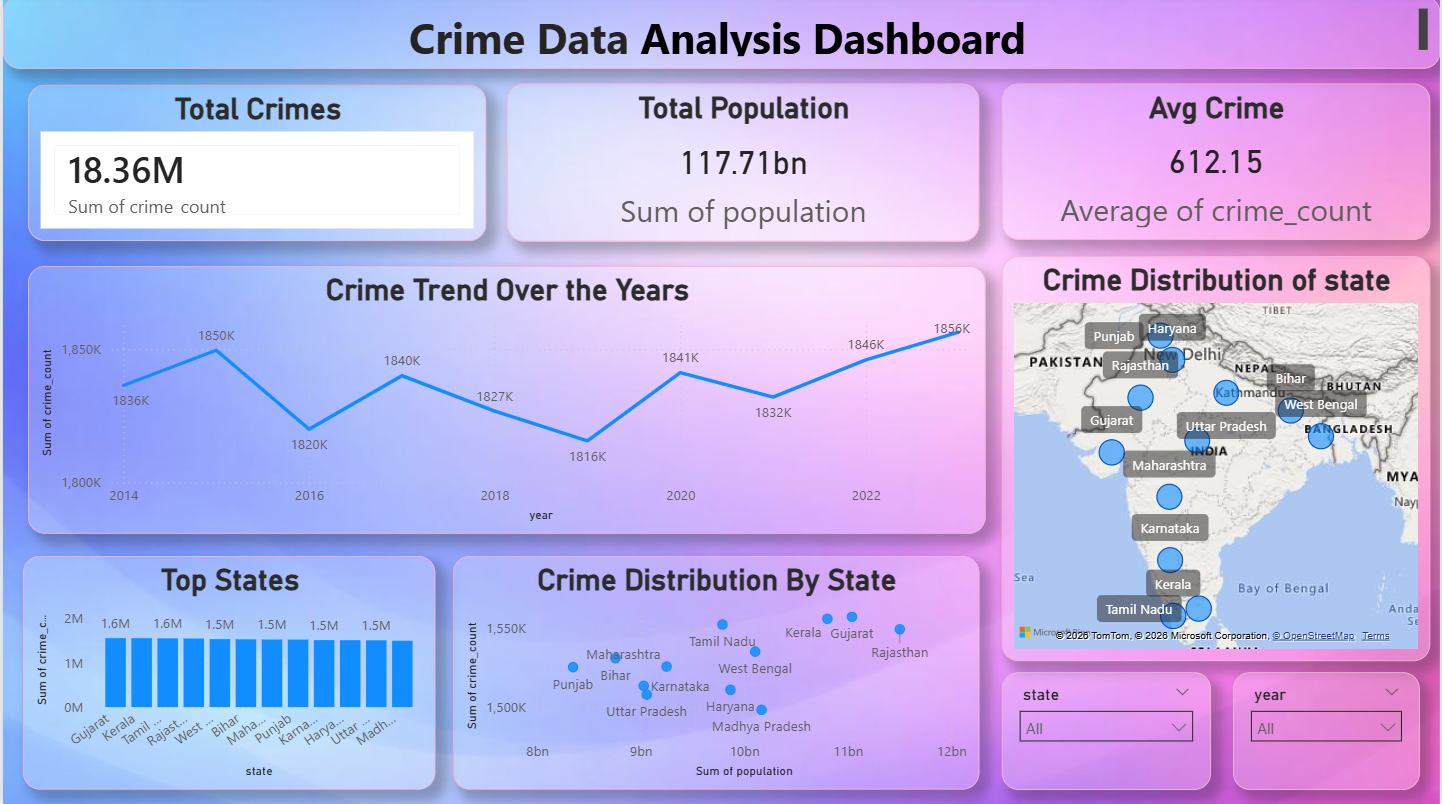

The page's visual inventory and layout, read from the dashboard file:
{"tool":"powerbi","page":{"name":"Page 1","canvas":[1280,720],"ordinal":0},"visuals":[{"type":"cardVisual","title":"Total Crimes","fields":{"Data":["Sum(public crime_data.crime_count)"]},"box":[22.1,79.1,408.1,139.5],"z":0},{"type":"textbox","box":[0,0,1280.2,65.1],"z":1000},{"type":"card","title":"Total Population","fields":{"Values":["Sum(public crime_data.population)"]},"box":[448.8,77.9,420.9,140.7],"z":2000},{"type":"card","title":"Avg Crime","fields":{"Values":["Avg(public crime_data.crime_count)"]},"box":[889.5,77.9,381.4,139.5],"z":3000},{"type":"lineChart","title":"Crime Trend Over the Years","fields":{"Category":["public crime_data.year"],"Y":["Sum(public crime_data.crime_count)"]},"box":[22.3,240.4,852.7,238.2],"z":4000},{"type":"map","title":"Crime Distribution of state","fields":{"Category":["public crime_data.state"],"Size":["Sum(public crime_data.crime_count)"]},"box":[889.4,231.5,381.8,360.7],"z":5000},{"type":"scatterChart","title":"Crime Distribution By State","fields":{"X":["Sum(public crime_data.population)"],"Y":["Sum(public crime_data.crime_count)"],"Category":["public crime_data.state"]},"box":[400.7,498.7,468.6,208.2],"z":6000},{"type":"slicer","fields":{"Values":["public crime_data.year"]},"box":[1095.3,602.3,166.3,104.7],"z":7000},{"type":"slicer","fields":{"Values":["public crime_data.state"]},"box":[889.5,602.3,186,104.7],"z":8000},{"type":"columnChart","title":"Top States","fields":{"Category":["public crime_data.state"],"Y":["Sum(public crime_data.crime_count)"]},"box":[17.8,498.7,367.3,208.2],"z":9000}]}

Visuals, with their boxes in screenshot pixels (x1, y1, x2, y2), scaled from the page's 1280x720 canvas onto the 1442x804 screenshot:
"Total Crimes" cardVisual: locate(25, 88, 485, 244)
textbox: locate(0, 0, 1441, 73)
"Total Population" card: locate(506, 87, 980, 244)
"Avg Crime" card: locate(1002, 87, 1432, 243)
"Crime Trend Over the Years" lineChart: locate(25, 268, 986, 534)
"Crime Distribution of state" map: locate(1002, 259, 1432, 661)
"Crime Distribution By State" scatterChart: locate(451, 557, 979, 789)
slicer - public crime_data.year: locate(1234, 673, 1421, 789)
slicer - public crime_data.state: locate(1002, 673, 1212, 789)
"Top States" columnChart: locate(20, 557, 434, 789)
